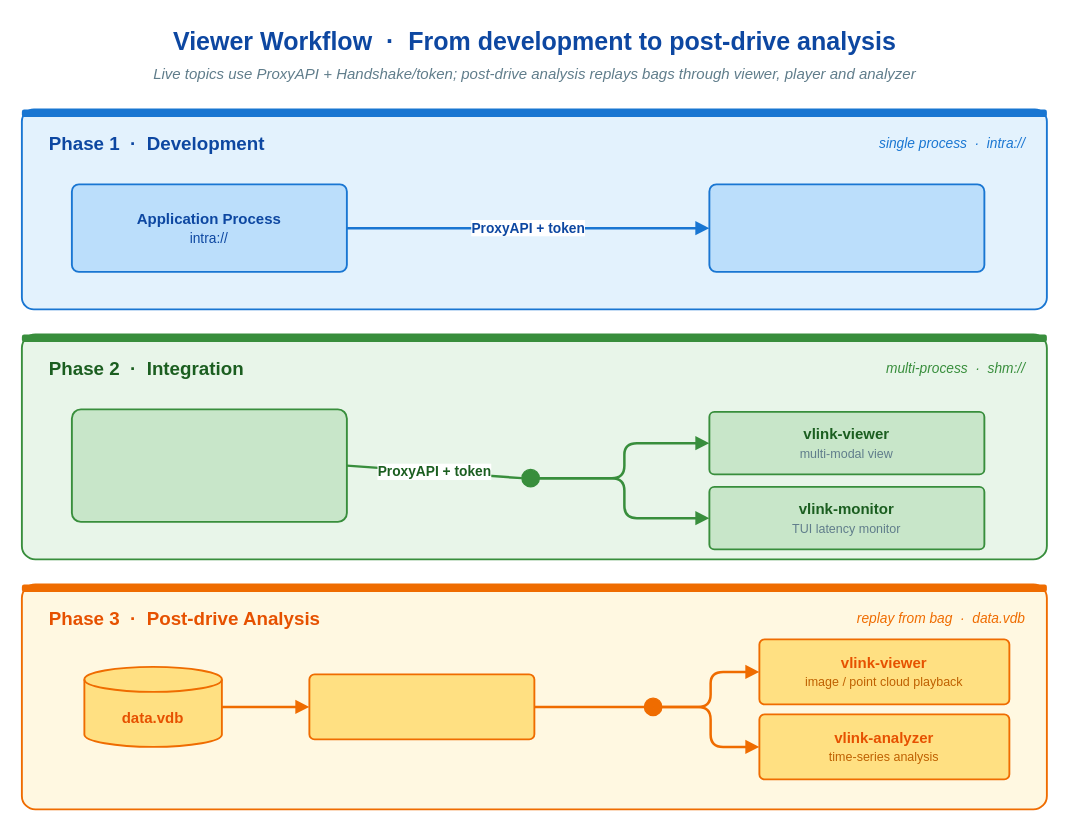
The diagram is 1070 pixels wide and 831 high, and some of its shapes have lost their labels. Here are the shapes that lost their labels. From the top down, the box of each, then its label:
(708, 183, 985, 272): vlink-viewer real-time visualization
(70, 408, 347, 522): Multiple Processes shm://
(308, 673, 535, 740): vlink-player timeline control
